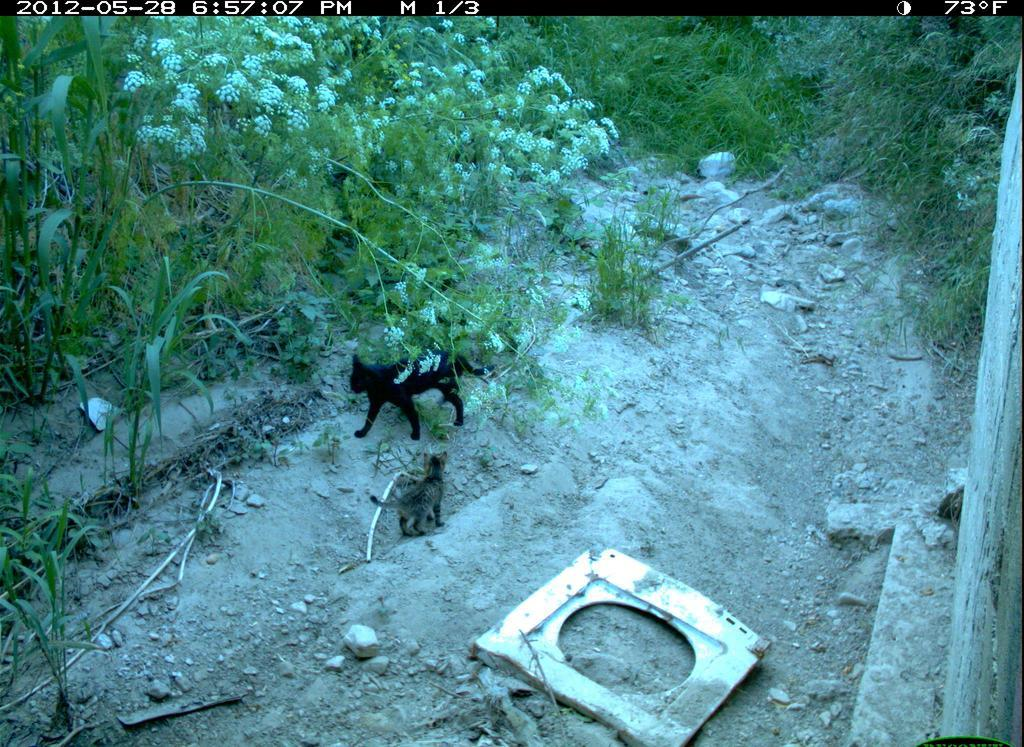cat: (342, 347, 491, 447), (365, 451, 459, 543)
